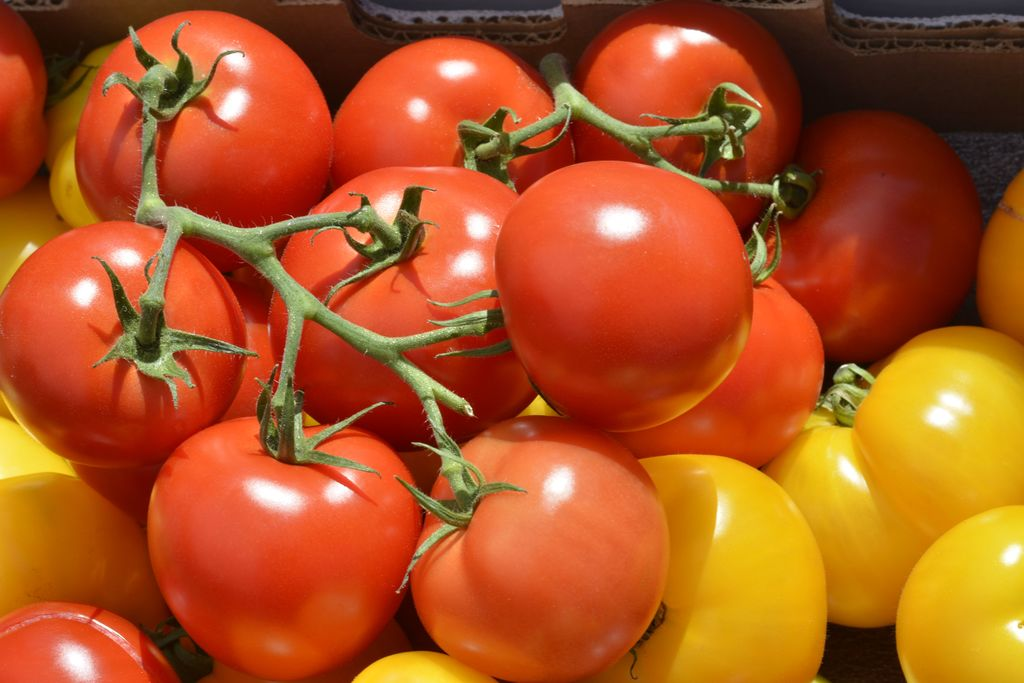Tomato: (256, 156, 536, 452), (149, 384, 419, 675), (488, 156, 763, 426), (405, 409, 675, 682), (74, 4, 334, 268), (0, 214, 255, 470), (752, 103, 995, 364), (551, 0, 806, 229), (602, 458, 833, 682), (760, 363, 944, 631), (0, 405, 177, 633), (618, 276, 824, 469), (328, 36, 568, 199), (848, 325, 1023, 543), (902, 504, 1023, 682), (141, 619, 418, 682), (0, 593, 184, 682), (41, 39, 120, 229), (0, 0, 46, 214), (976, 163, 1023, 340), (0, 183, 70, 293), (346, 648, 507, 682)
